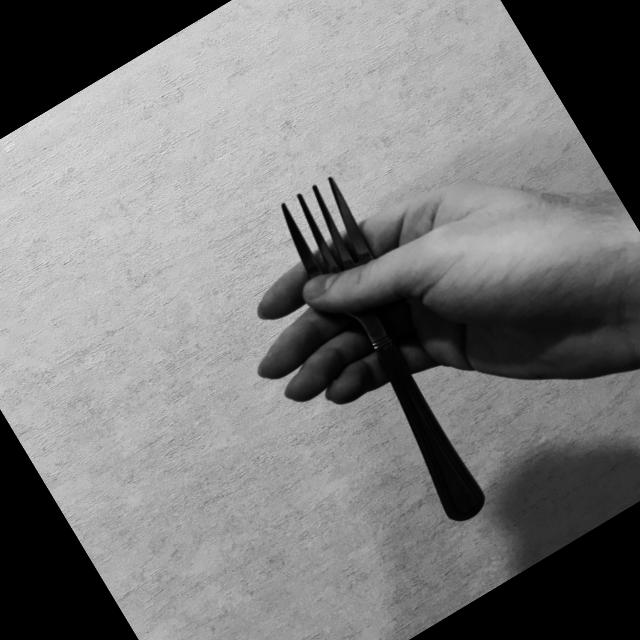fork: (260, 167, 526, 531)
